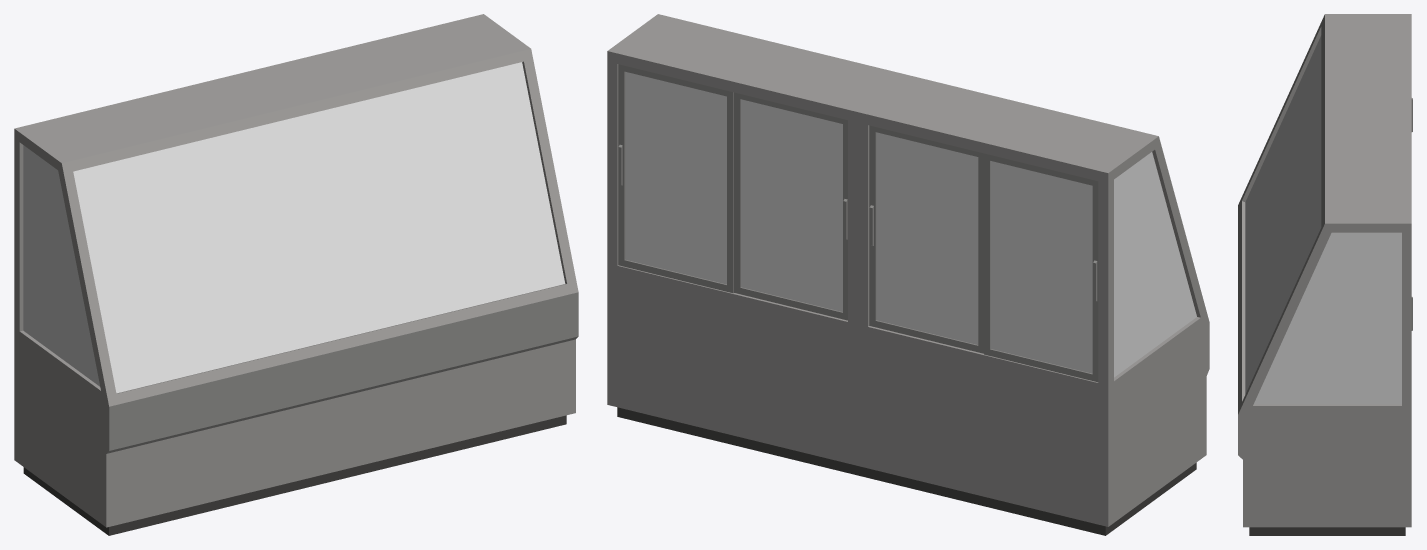
The model's file is SM_Props_Interior_SuperMarket_Display_Food_Preset_Bakery_02.fbx.
3 views of the same model, side by side, from view 1: azimuth 30°, elevation 25°; view 2: azimuth 150°, elevation 25°; view 3: azimuth 270°, elevation 25° (orthographic). The views are drawn at different scales.
Parts seen in each view (by area): view 1: SM_Props_Interior_SuperMarket_Display_Food_Preset_Bakery_02; view 2: SM_Props_Interior_SuperMarket_Display_Food_Preset_Bakery_02, SM_Props_Interior_SuperMarket_Display_Food_Preset_Bakery_02_ (×4); view 3: SM_Props_Interior_SuperMarket_Display_Food_Preset_Bakery_02.
Boxes of the visible parts, left/top/right/bottom form: SM_Props_Interior_SuperMarket_Display_Food_Preset_Bakery_02: left=14, top=14, right=578, bottom=535; SM_Props_Interior_SuperMarket_Display_Food_Preset_Bakery_02: left=607, top=14, right=1209, bottom=535; SM_Props_Interior_SuperMarket_Display_Food_Preset_Bakery_02_ (×4): left=618, top=64, right=1098, bottom=382; SM_Props_Interior_SuperMarket_Display_Food_Preset_Bakery_02: left=1238, top=14, right=1411, bottom=535.
Bounding box in the file's own units: 200 × 140 × 70.44.
